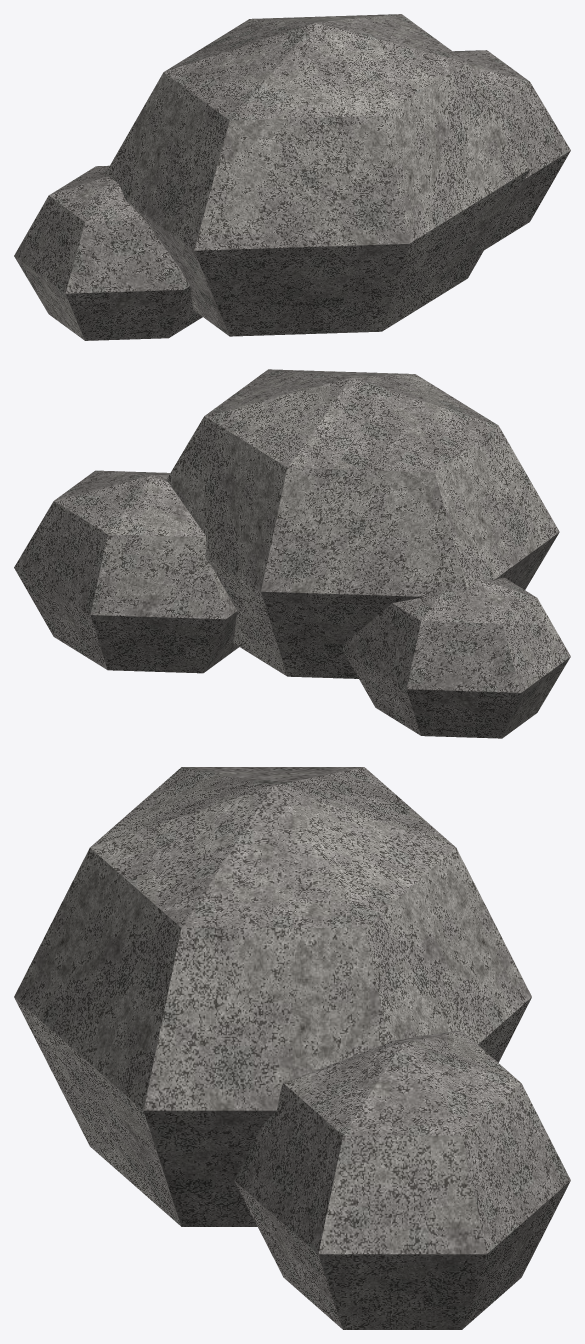
File: rock_big.glb
3 renders of one model, top to bottom at view 1: azimuth 30°, elevation 25°; view 2: azimuth 150°, elevation 25°; view 3: azimuth 270°, elevation 25°, orthographic. The views are drawn at different scales.
Parts seen in each view (by area): view 1: rock_big; view 2: rock_big; view 3: rock_big.
Part boxes in pixels (x1,y1,x2,y2): rock_big: (14, 14, 570, 340); rock_big: (14, 369, 570, 738); rock_big: (14, 767, 570, 1329).
Bounding box in the file's own units: 1.57 × 0.9 × 1.08.
Materials: 1 (1 with a texture image).
